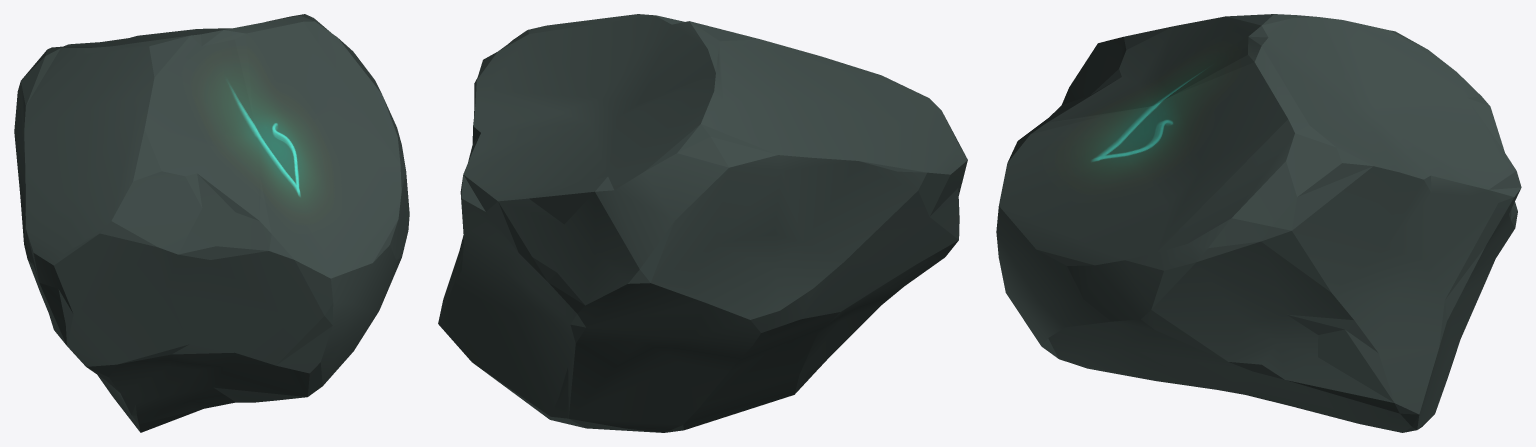
The model's file is Rock_3.FBX.
3 views of the same model, side by side, from view 1: azimuth 30°, elevation 25°; view 2: azimuth 150°, elevation 25°; view 3: azimuth 270°, elevation 25° (orthographic). The views are drawn at different scales.
Parts seen in each view (by area): view 1: GeoSphere003; view 2: GeoSphere003; view 3: GeoSphere003.
Part boxes in pixels (<box>): GeoSphere003: <box>14,14,409,432</box>; GeoSphere003: <box>438,14,967,432</box>; GeoSphere003: <box>996,14,1521,432</box>.
Bounding box in the file's own units: 127 × 111 × 135.
